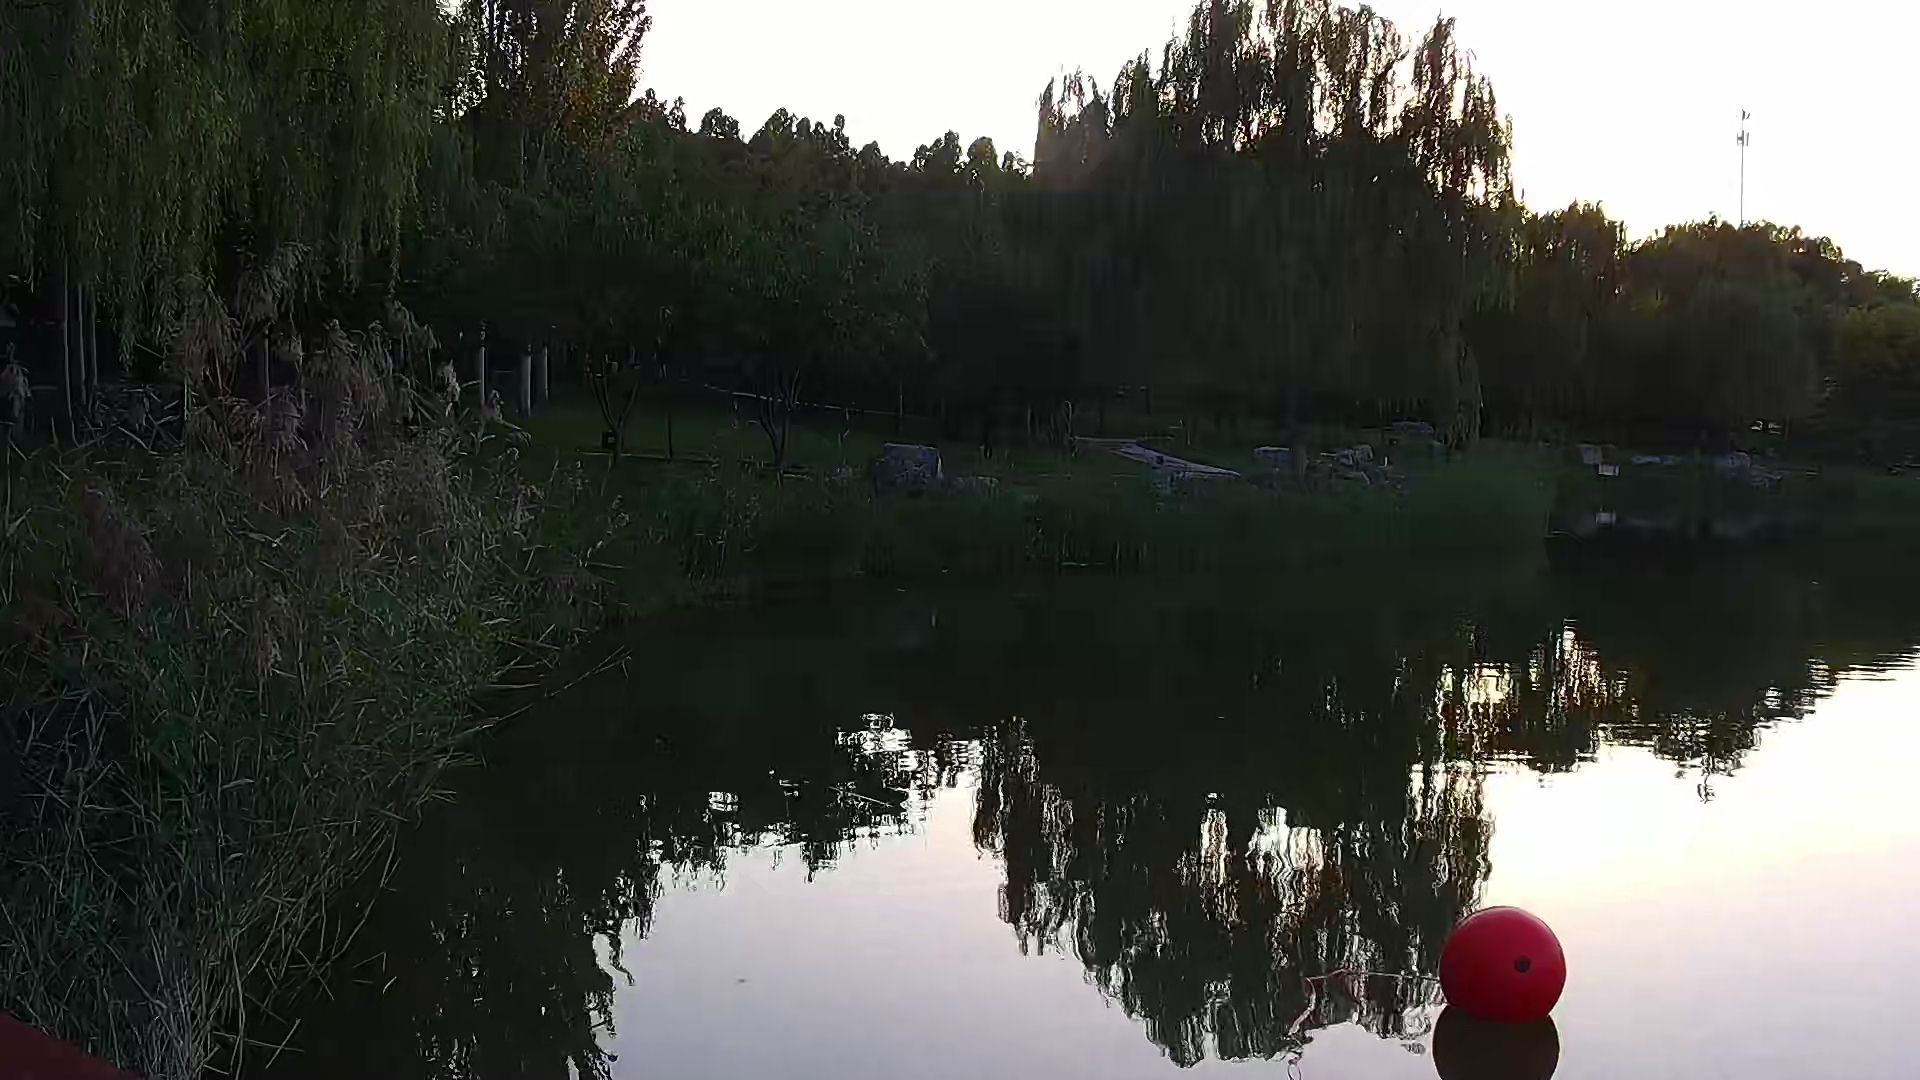rubbish: (1447, 909, 1571, 1026)
